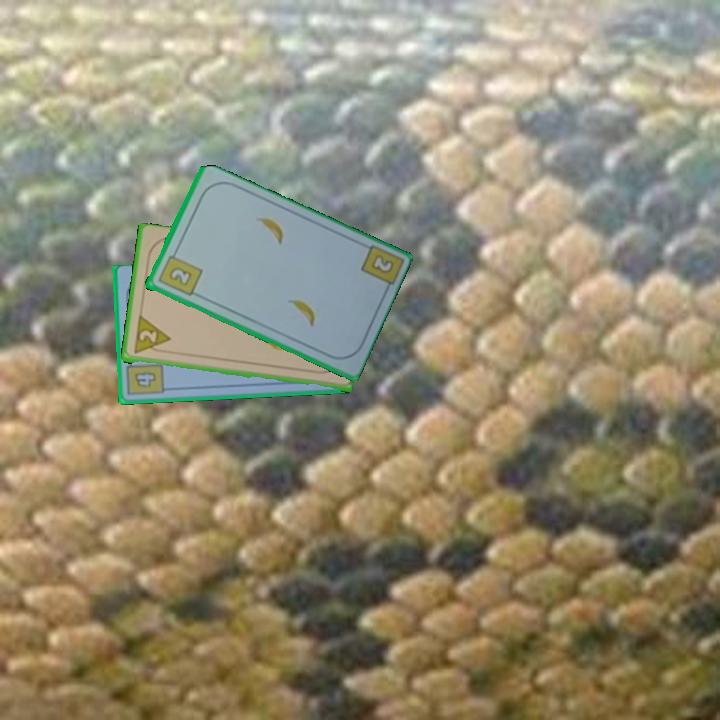2b: (356, 241, 404, 296), (154, 247, 204, 299)
2p: (130, 314, 173, 357)
4b: (123, 355, 167, 399)
